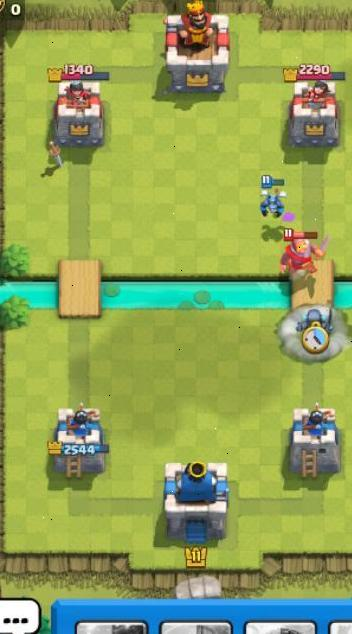enemy_knight: (273, 226, 333, 279)
player_mini_pekka: (289, 302, 340, 349)
player_minions: (256, 175, 290, 217)
